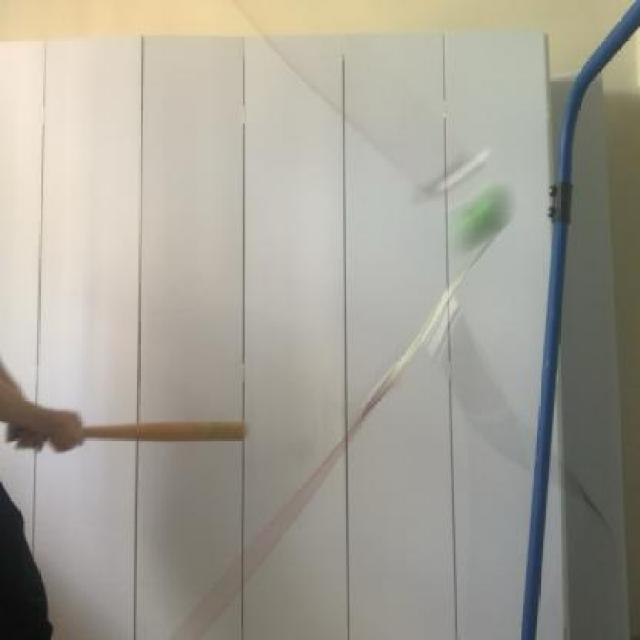baseball: (438, 165, 516, 264)
